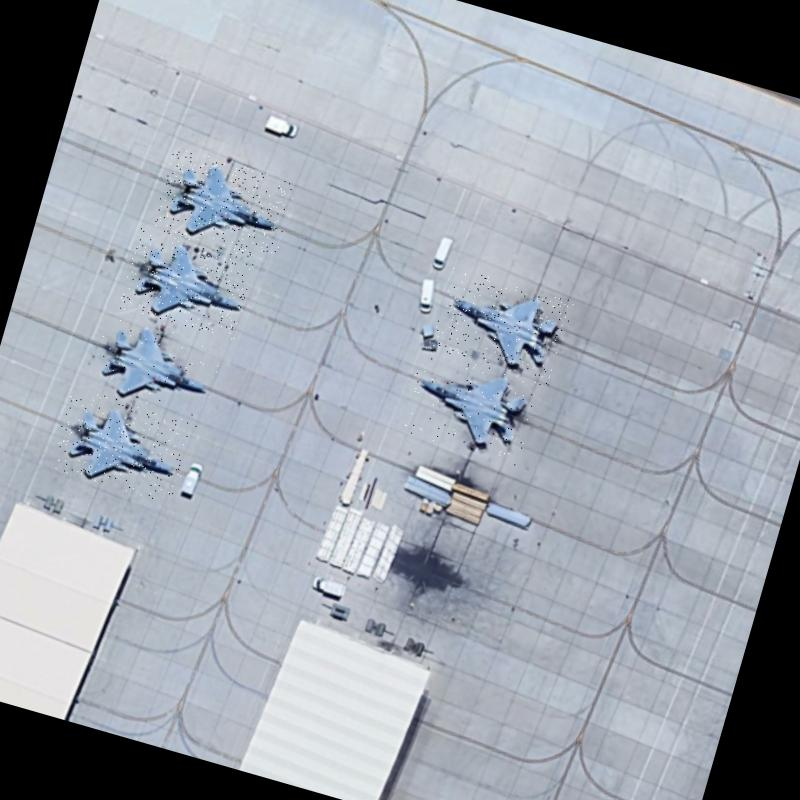A13: (48, 386, 198, 505), (151, 146, 298, 264), (429, 266, 574, 385), (398, 345, 541, 465), (87, 310, 226, 424), (118, 228, 255, 340)
